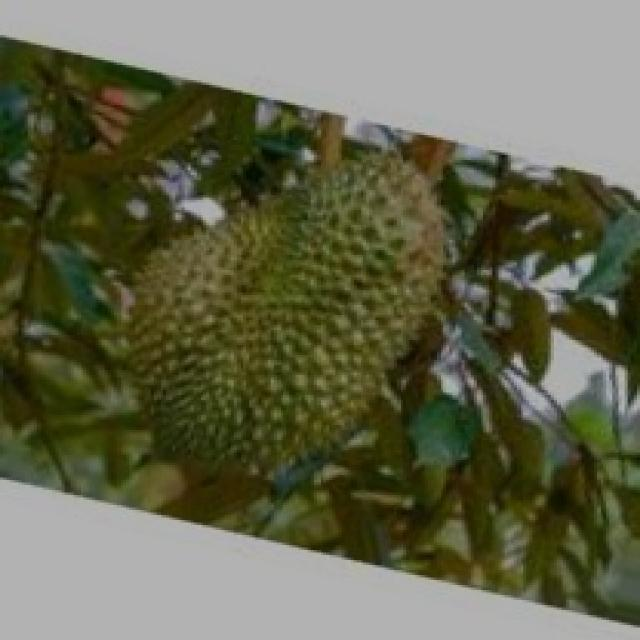fruit: (68, 122, 486, 532)
